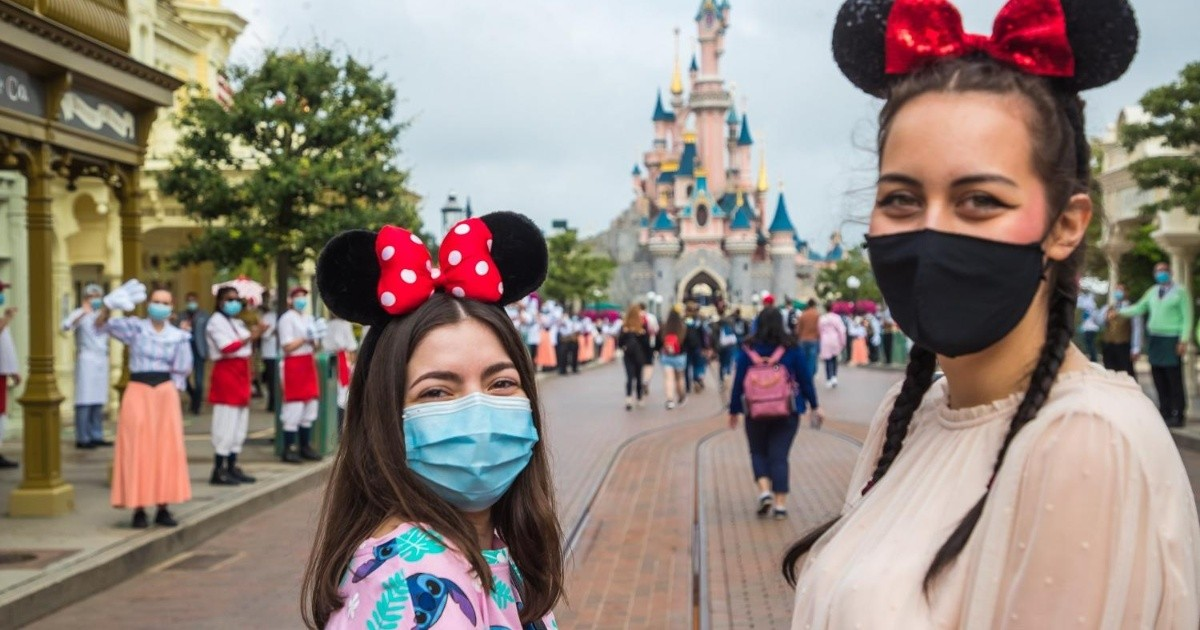with_mask: (882, 136, 1038, 350), (406, 353, 538, 501), (147, 292, 174, 324), (220, 291, 239, 313), (294, 289, 309, 308)
